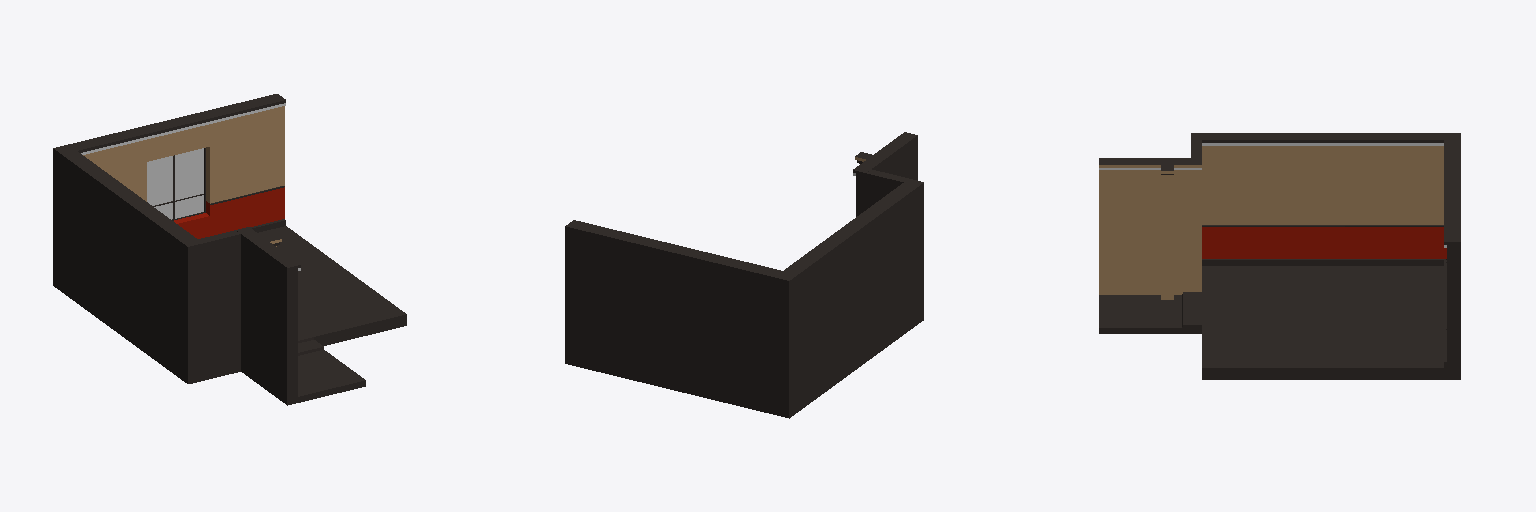
File: wall.obj
3 renders of one model, left to right at view 1: azimuth 30°, elevation 25°; view 2: azimuth 150°, elevation 25°; view 3: azimuth 270°, elevation 25°, orthographic.
Parts seen in each view (by area): view 1: Cube.053_Cube.077; view 2: Cube.053_Cube.077; view 3: Cube.053_Cube.077.
Part boxes in pixels (x1,y1,x2,y2): Cube.053_Cube.077: (53,94,406,405); Cube.053_Cube.077: (565,132,923,418); Cube.053_Cube.077: (1099,133,1460,379).
Bounding box in the file's own units: 29.89 × 17.52 × 41.86.